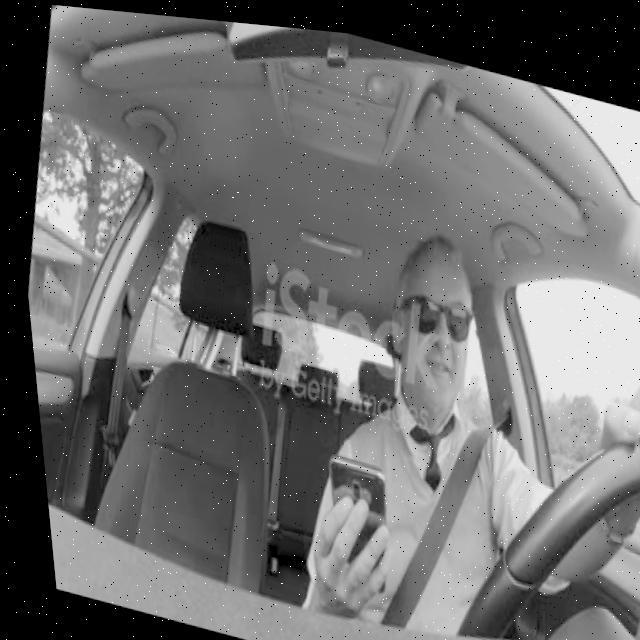PhoneCall: (298, 443, 397, 592)
